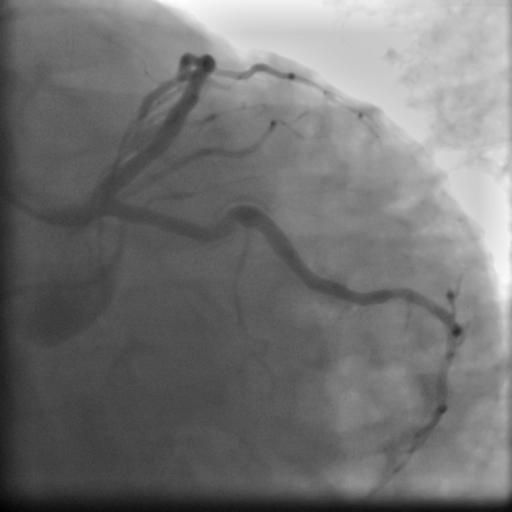Stenosis: (209, 212, 236, 239)
